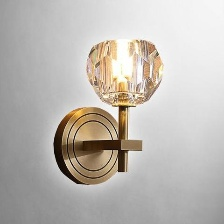light_bulb: (76, 34, 170, 121)
